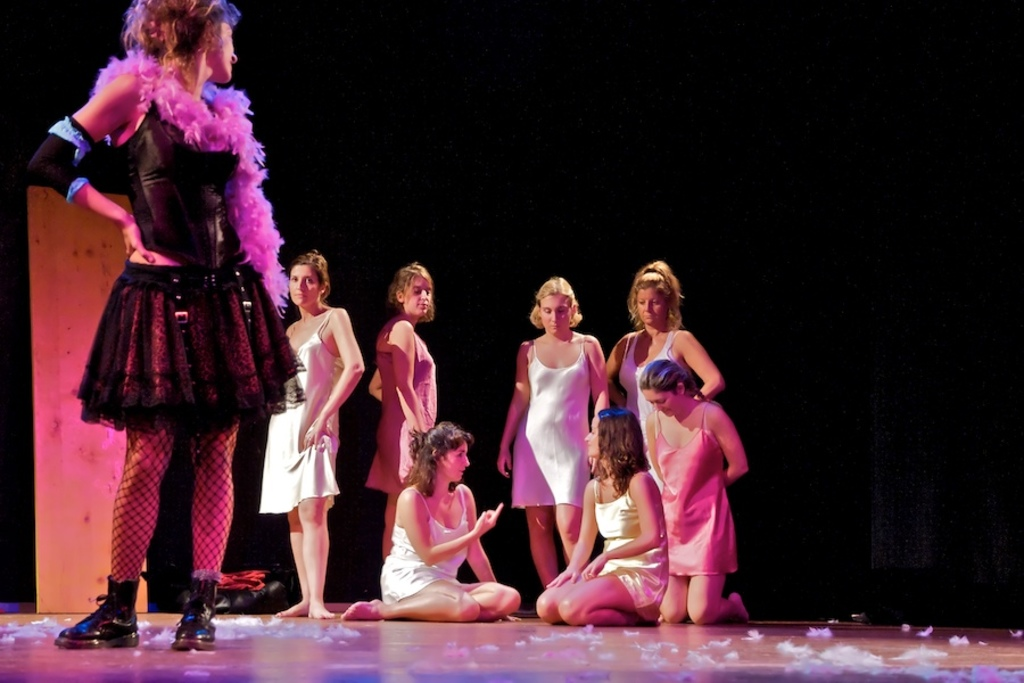Person: (27, 0, 748, 650)
